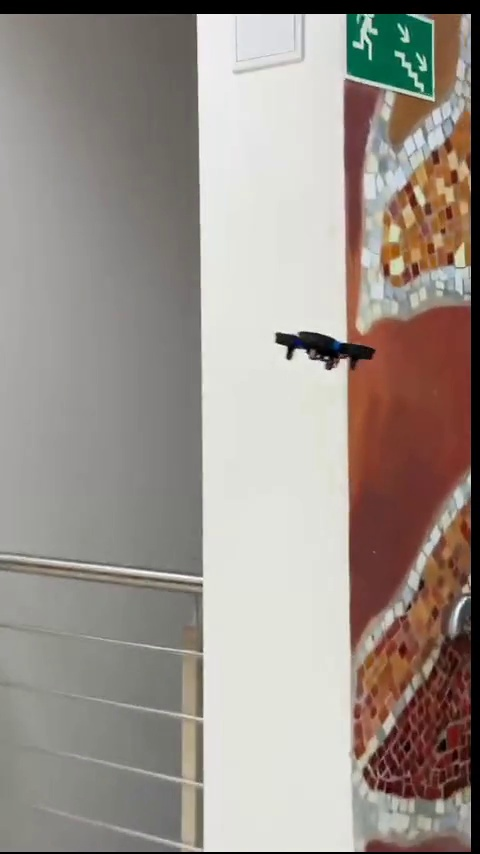drone: (283, 327, 381, 370)
